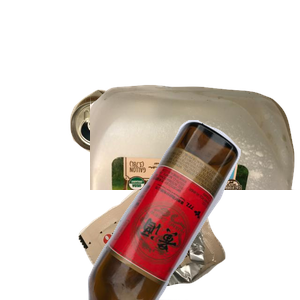glass: (85, 120, 300, 300)
metal: (67, 87, 206, 234)
plastic: (90, 82, 300, 262)
trash: (76, 170, 300, 300)
